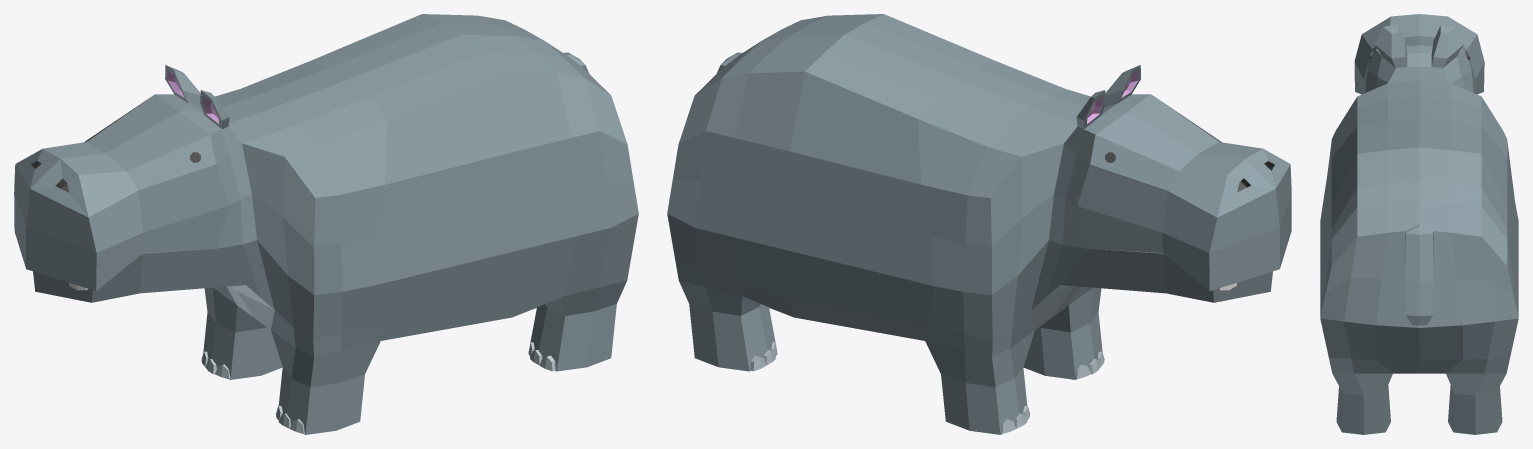
The model's file is animals-hippo-119.glb.
3 renders of one model, left to right at view 1: azimuth 30°, elevation 25°; view 2: azimuth 150°, elevation 25°; view 3: azimuth 270°, elevation 25°, orthographic. The views are drawn at different scales.
Parts seen in each view (by area): view 1: Cube.031; view 2: Cube.031; view 3: Cube.031.
Boxes of the visible parts, x1,y1,x2,y2 form: Cube.031: (14, 14, 638, 434); Cube.031: (667, 14, 1291, 434); Cube.031: (1320, 14, 1518, 434).
Size of the model in its own units: 350 by 191 by 130.
